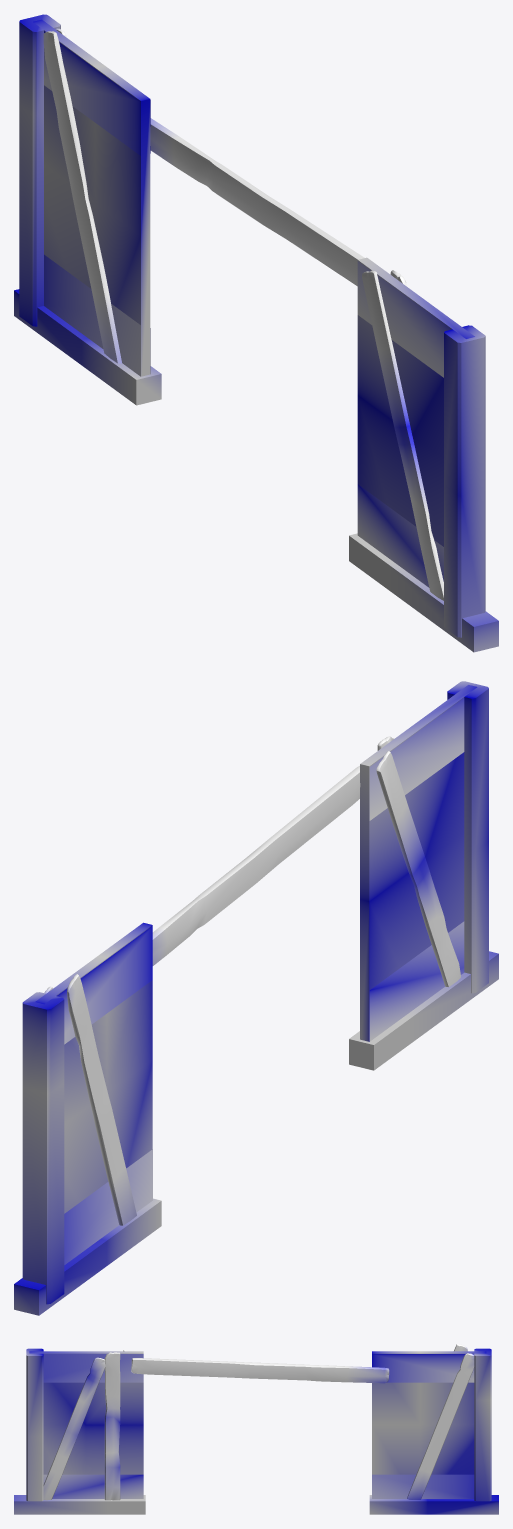
The model's file is SM_ShackFront8m_04.fbx.
The picture shows the model from 3 angles, top to bottom: view 1: azimuth 30°, elevation 25°; view 2: azimuth 150°, elevation 25°; view 3: azimuth 270°, elevation 25°; orthographic projection. The views are drawn at different scales.
Visible parts, largest first — view 1: SM_ShackFront8m_04_LOD0; view 2: SM_ShackFront8m_04_LOD0; view 3: SM_ShackFront8m_04_LOD0.
Boxes of the visible parts, box(x1,y1,x2,y2) form: SM_ShackFront8m_04_LOD0: box(14, 14, 498, 652); SM_ShackFront8m_04_LOD0: box(14, 681, 498, 1315); SM_ShackFront8m_04_LOD0: box(14, 1344, 498, 1514).
Size of the model in its own units: 30.15 by 849 by 318.
